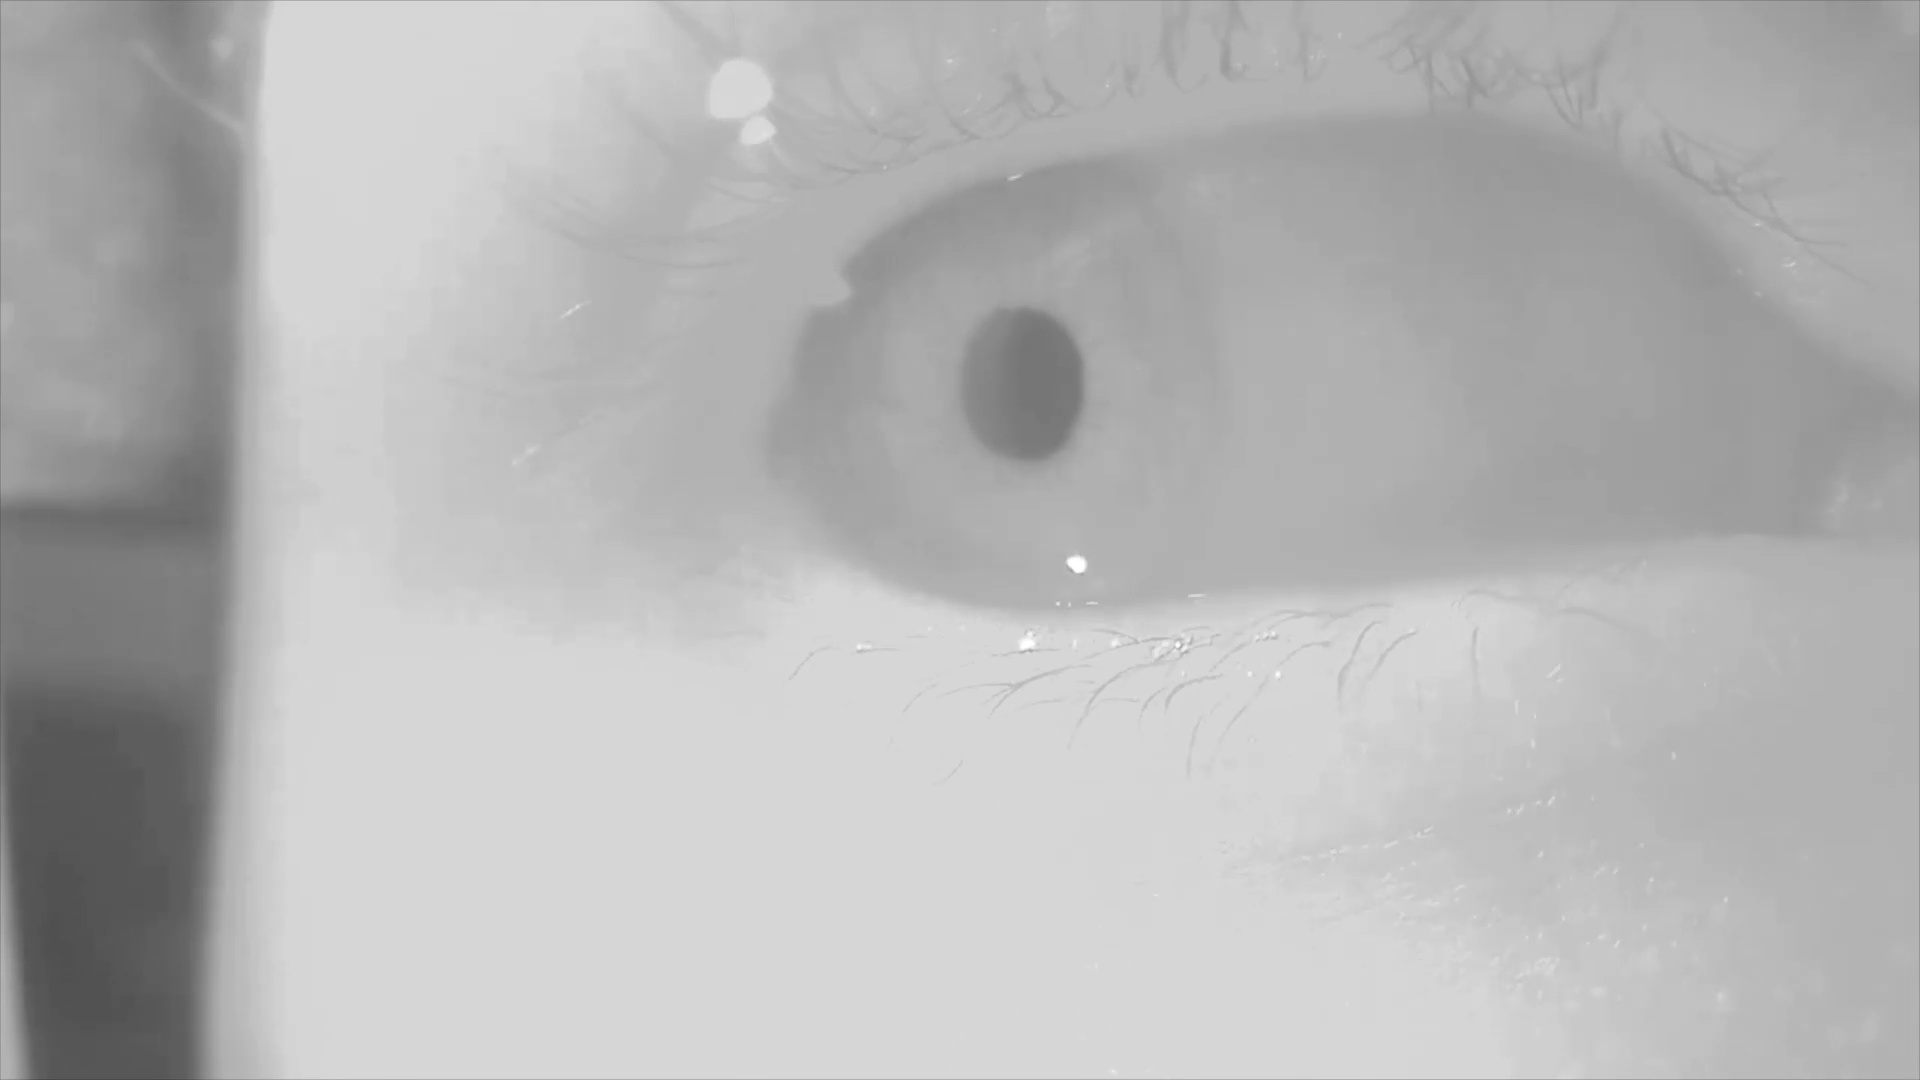pupil: (959, 308, 1089, 468)
